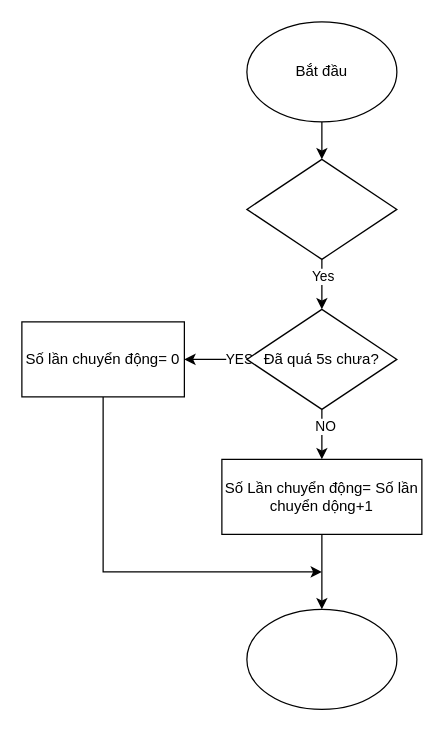
Image size: 444x731. Some labels were removed from this diagram. The centre of each missing label's shape, as x and y in pixels:
"Có chuyển động hay không?" belongs at [321,208].
"Kết thúc" belongs at [321,658].
